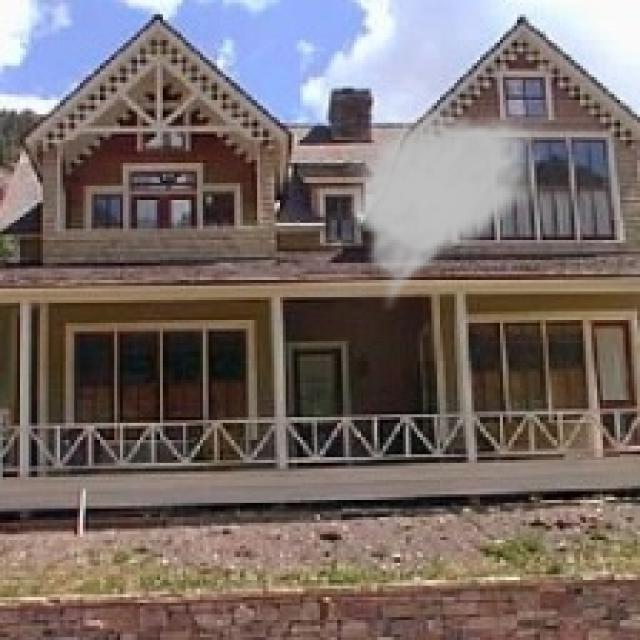Smoke: (343, 106, 546, 314)
